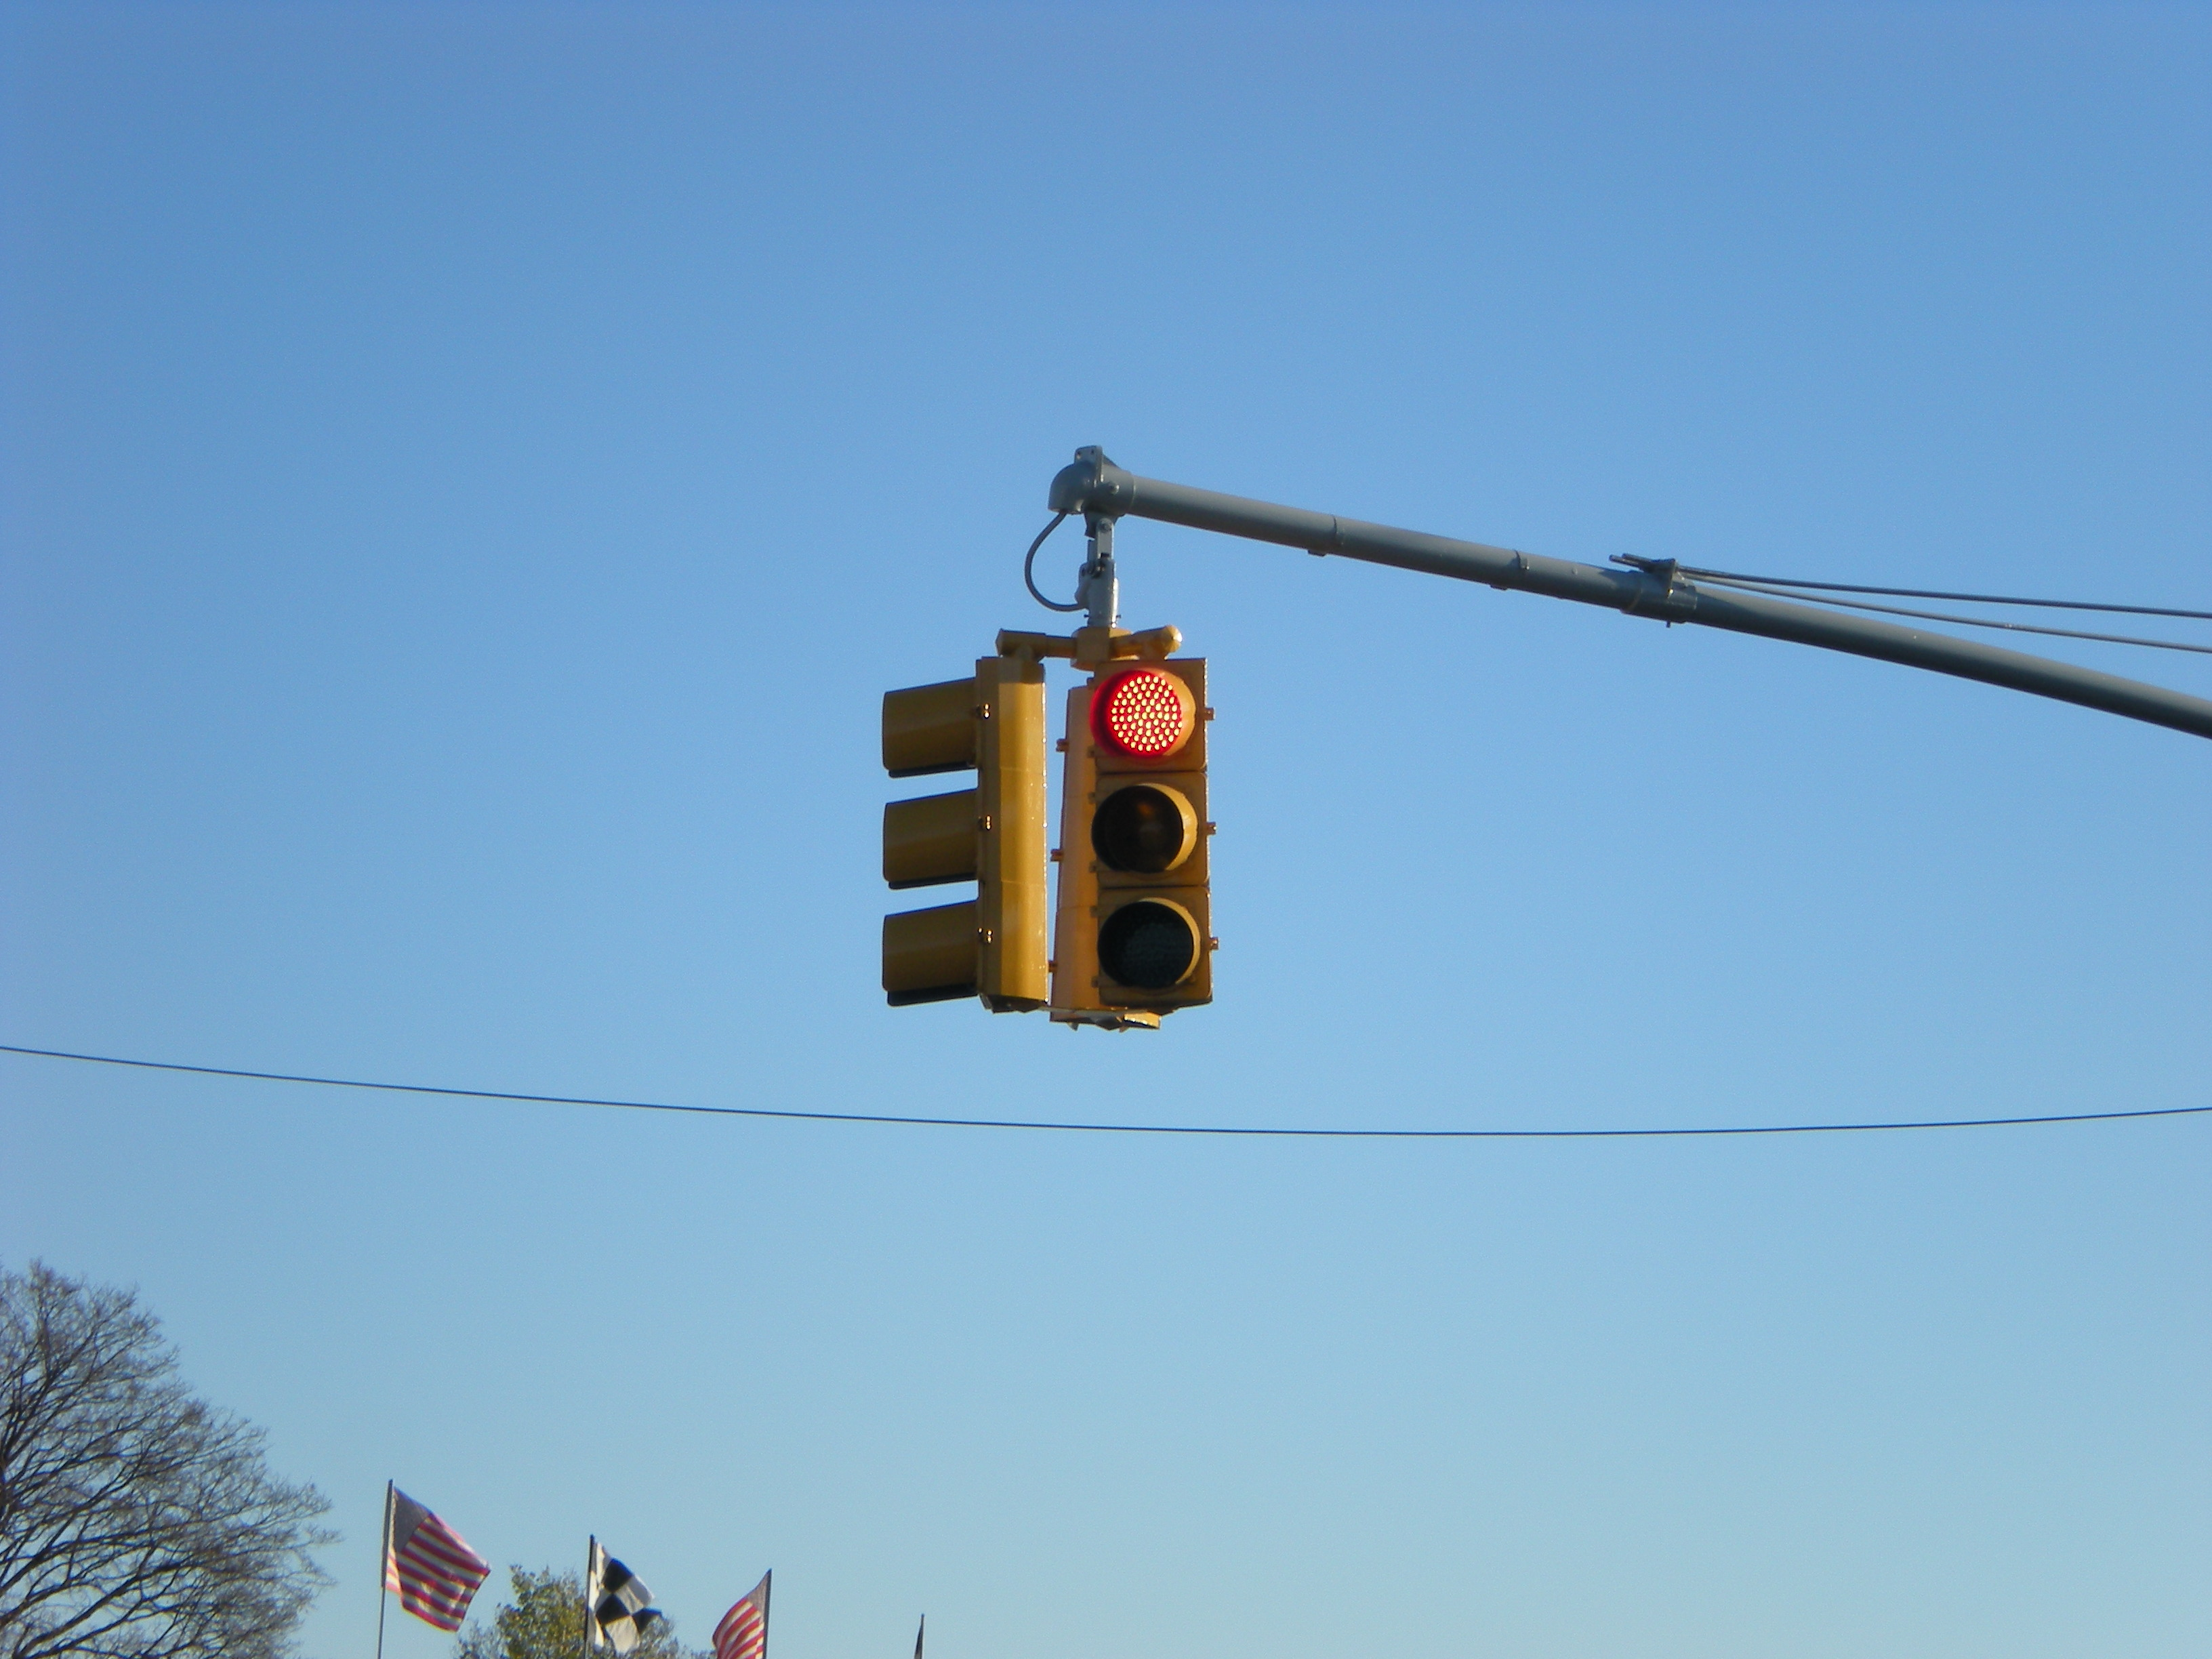traffic light: (791, 572, 1322, 1154)
